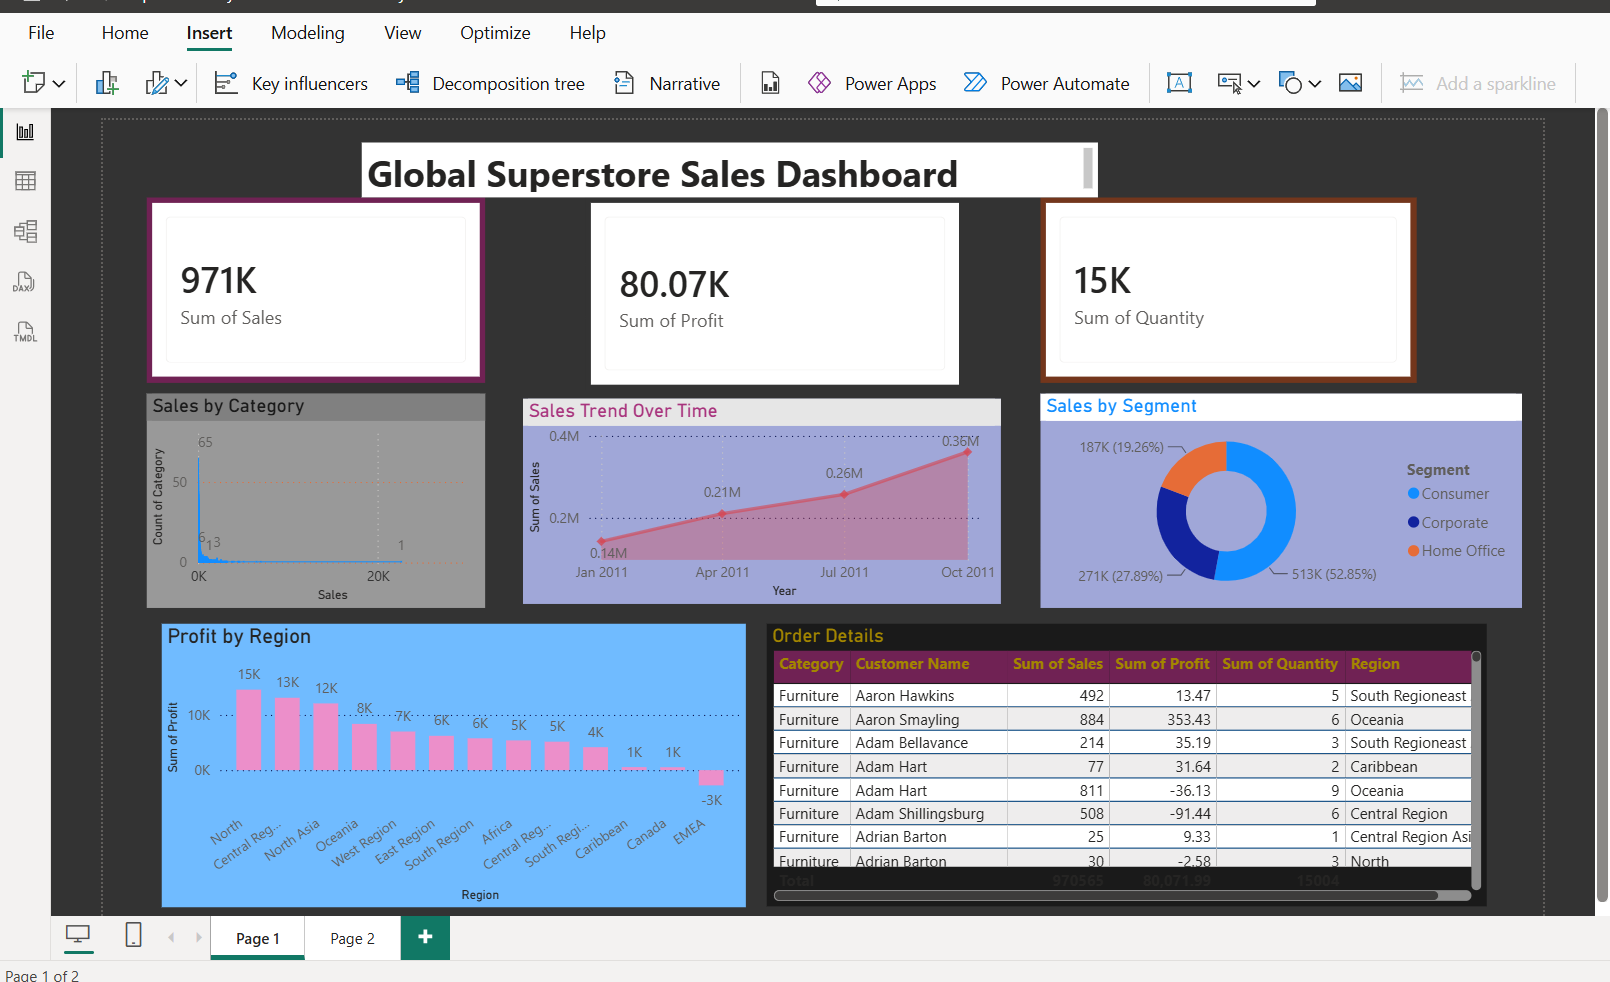

This screenshot's page, from the dashboard's own definition file:
{"tool":"powerbi","page":{"name":"Page 1","canvas":[1280,720],"ordinal":1},"visuals":[{"type":"cardVisual","fields":{"Data":["Sum(superstore.Sales)"]},"box":[532.2,75.6,232.2,161.1],"z":0},{"type":"cardVisual","fields":{"Data":["Sum(superstore.Profit)"]},"box":[781.1,75.6,224.4,157.8],"z":1000},{"type":"cardVisual","fields":{"Data":["Sum(superstore.Quantity)"]},"box":[1020,91.1,241.1,138.9],"z":2000},{"type":"columnChart","title":"Sales by Category","fields":{"Category":["superstore.Sales"],"Y":["CountNonNull(superstore.Category)"]},"box":[25.6,261.1,322.2,182.2],"z":3000},{"type":"clusteredColumnChart","title":"Profit by Region","fields":{"Category":["superstore.Region"],"Y":["Sum(superstore.Profit)"]},"box":[0,458.9,431.1,232.2],"z":4000},{"type":"lineChart","title":"Sales Trend Over Time","fields":{"Category":["superstore.Order Date.Variation.Date Hierarchy.Year","superstore.Order Date.Variation.Date Hierarchy.Quarter","superstore.Order Date.Variation.Date Hierarchy.Month","superstore.Order Date.Variation.Date Hierarchy.Day"],"Y":["Sum(superstore.Sales)"]},"box":[375.6,261.1,433.3,182.2],"z":5000},{"type":"donutChart","title":"Sales by Segment","fields":{"Category":["superstore.Segment"],"Y":["Sum(superstore.Sales)"]},"box":[856.7,261.1,404.4,186.7],"z":6000},{"type":"tableEx","title":"Order Details","fields":{"Values":["superstore.Category","superstore.Customer Name","Sum(superstore.Sales)","Sum(superstore.Profit)","Sum(superstore.Quantity)","superstore.Region"]},"box":[452.2,458.9,553.3,240],"z":7000},{"type":"textbox","box":[230,20,654.4,48.9],"z":8000},{"type":"slicer","title":"Filter by Year","fields":{"Values":["superstore.Order Year"]},"box":[25.6,72.2,265.6,141.1],"z":9000},{"type":"slicer","title":"Filter by Category","fields":{"Values":["superstore.Category"]},"box":[304.4,75.6,207.8,137.8],"z":10000},{"type":"slicer","title":"Filter by Region","fields":{"Values":["superstore.Region"]},"box":[1035.6,496.7,225.6,157.8],"z":11000}]}

Visuals, with their boxes on the page's 1280x720 design canvas (x1, y1, x2, y2). These are canvas units, not pixel positions in the 1610x982 screenshot, which may show the page scaled, cropped or inside an application window:
cardVisual - Sum(superstore.Sales): (532,76,764,237)
cardVisual - Sum(superstore.Profit): (781,76,1006,233)
cardVisual - Sum(superstore.Quantity): (1020,91,1261,230)
"Sales by Category" columnChart: (26,261,348,443)
"Profit by Region" clusteredColumnChart: (0,459,431,691)
"Sales Trend Over Time" lineChart: (376,261,809,443)
"Sales by Segment" donutChart: (857,261,1261,448)
"Order Details" tableEx: (452,459,1006,699)
textbox: (230,20,884,69)
"Filter by Year" slicer: (26,72,291,213)
"Filter by Category" slicer: (304,76,512,213)
"Filter by Region" slicer: (1036,497,1261,654)
